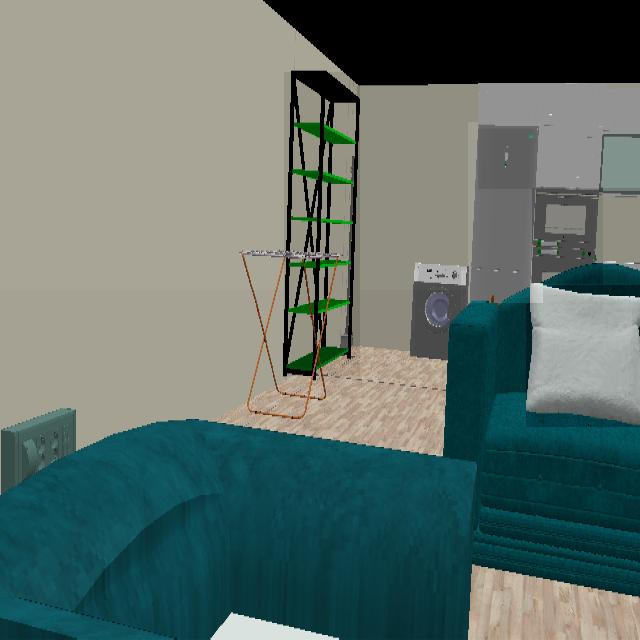cabinet: (478, 84, 640, 189)
fridge: (468, 122, 543, 302)
microwave: (532, 189, 603, 283)
pillow: (526, 285, 640, 427)
shelf: (284, 72, 360, 376)
sofa: (0, 291, 640, 639)
